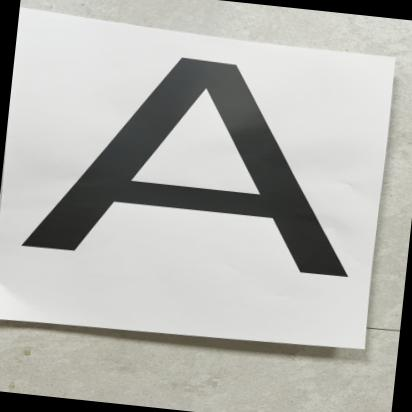seat: (16, 34, 393, 292)
